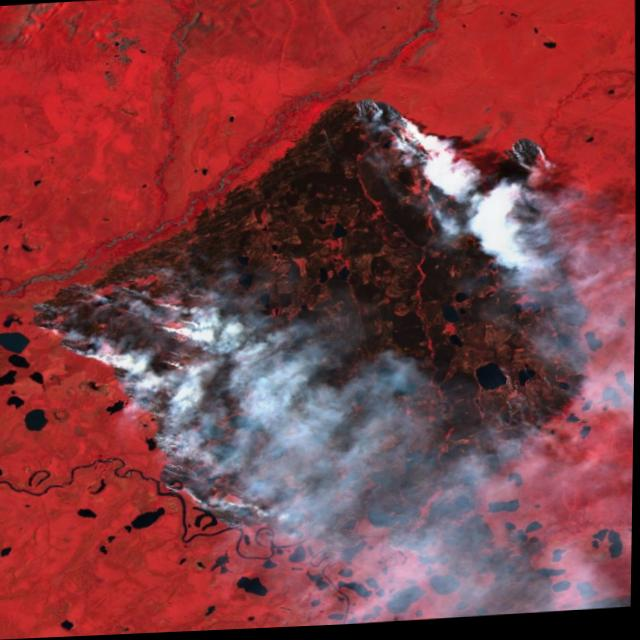fire: (16, 268, 266, 549), (343, 84, 562, 199)
